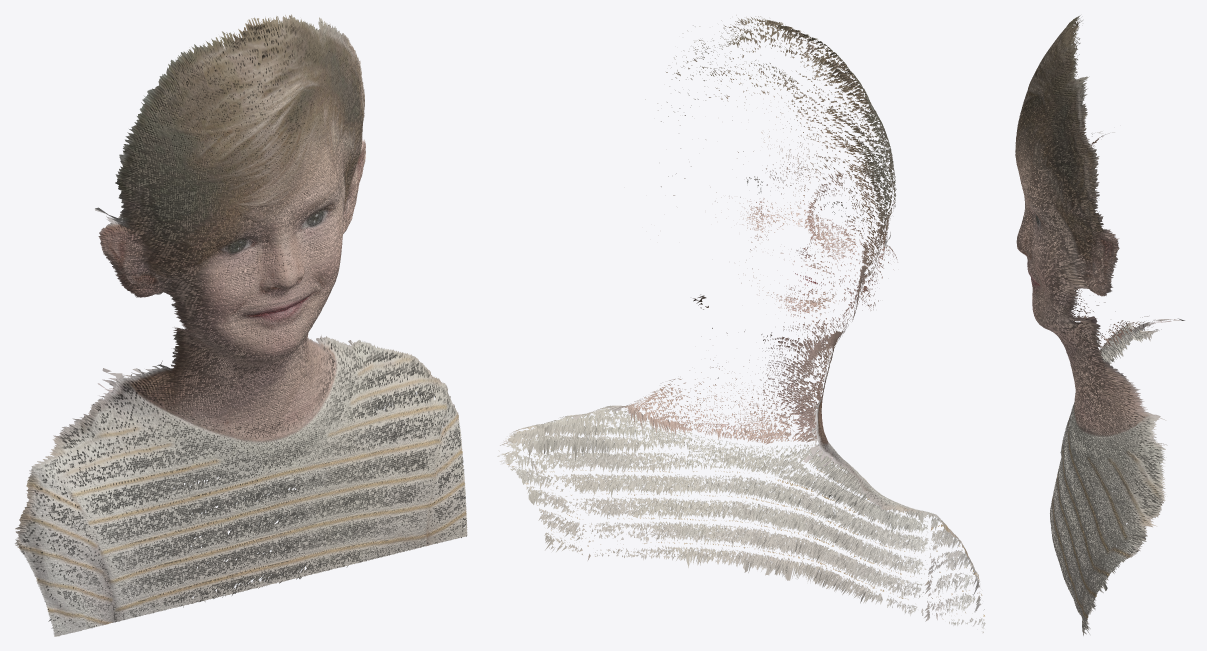
The model's file is ozzy_mesh.glb.
3 renders of one model, left to right at view 1: azimuth 30°, elevation 25°; view 2: azimuth 150°, elevation 25°; view 3: azimuth 270°, elevation 25°, orthographic. The views are drawn at different scales.
Visible parts, largest first — view 1: geometry_0; view 2: geometry_0; view 3: geometry_0.
Boxes of the visible parts, box(x1,y1,x2,y2) form: geometry_0: box(15, 14, 467, 636); geometry_0: box(497, 15, 985, 633); geometry_0: box(1015, 15, 1184, 635).
Size of the model in its own units: 0.4283 by 0.5151 by 0.1604.
